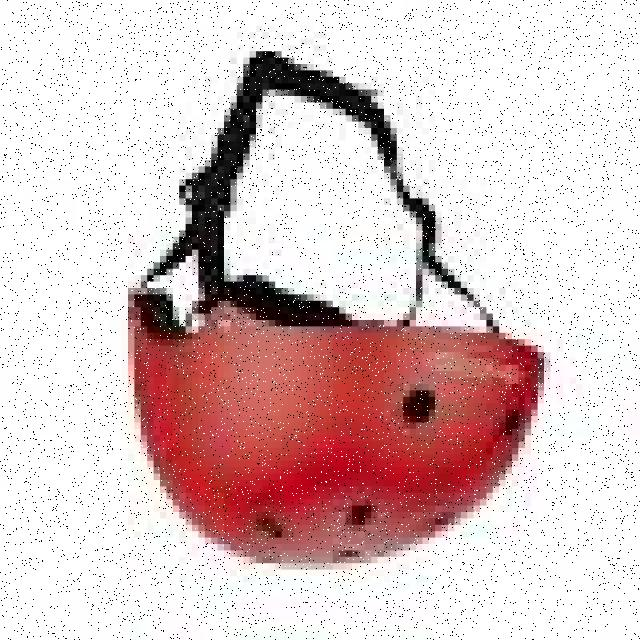Helmet: (77, 285, 572, 583)
